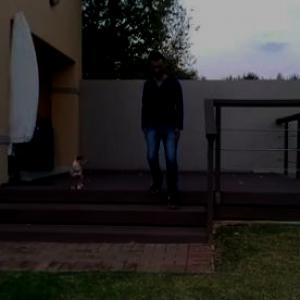follow: (147, 50, 186, 205)
